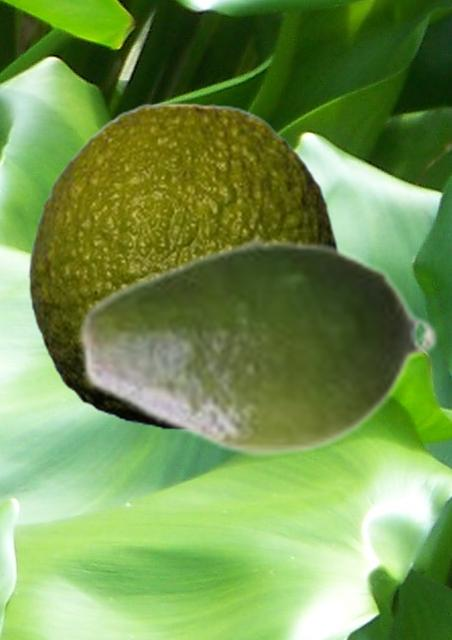avocado: (28, 102, 337, 429), (75, 234, 439, 459)
